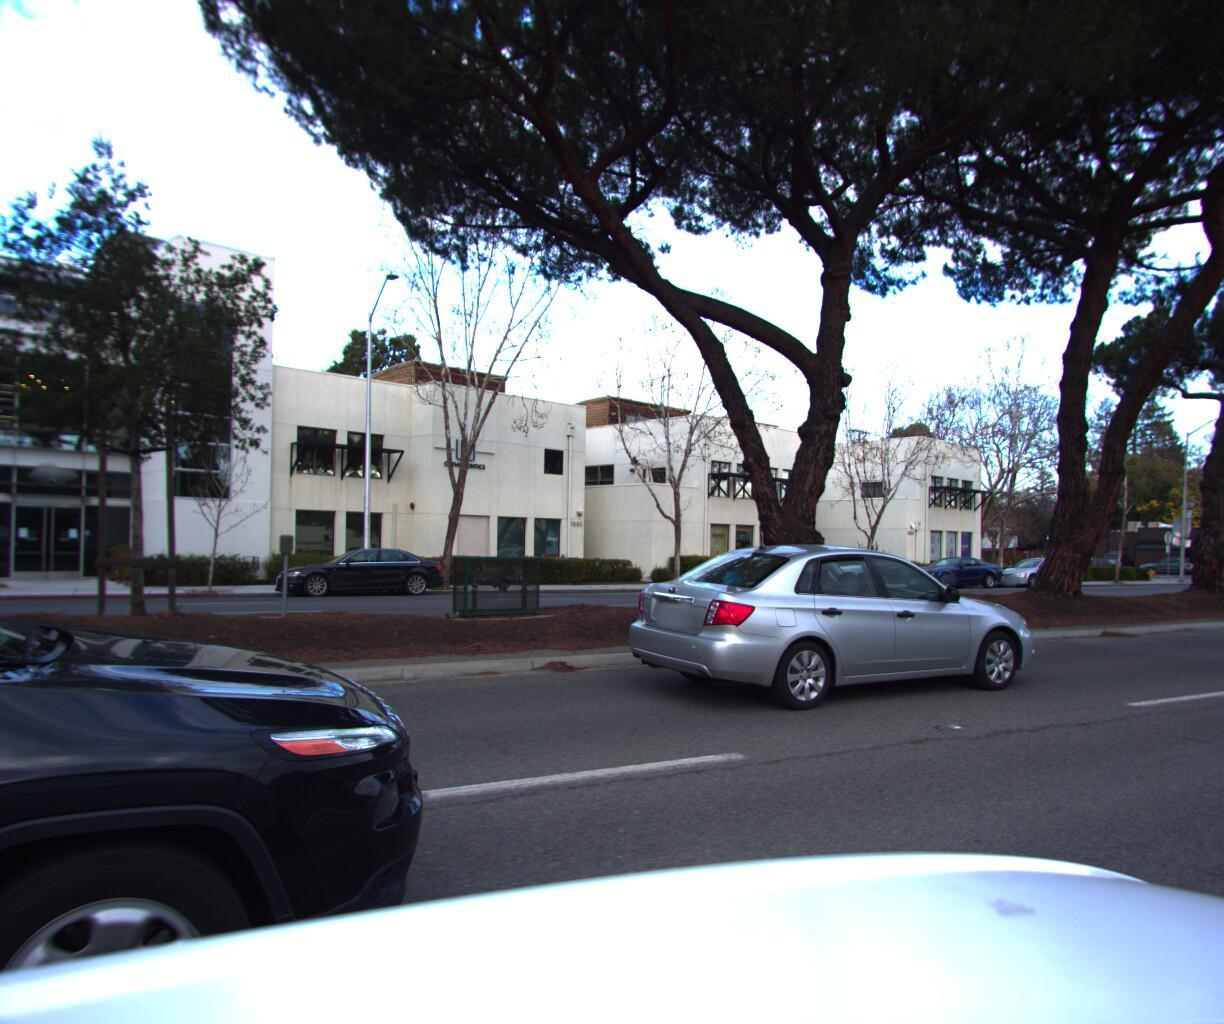car: (0, 0, 534, 1024), (616, 531, 1060, 719), (267, 540, 452, 598), (759, 546, 888, 589), (893, 549, 1007, 587), (984, 550, 1079, 583), (1188, 547, 1224, 583)
